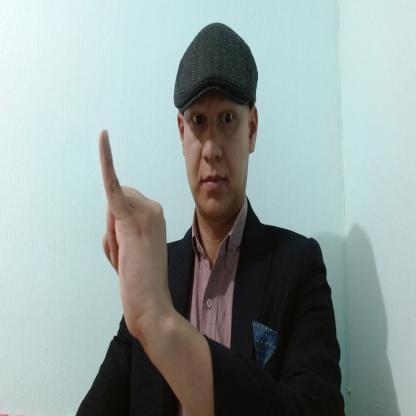I: (98, 126, 170, 335)
